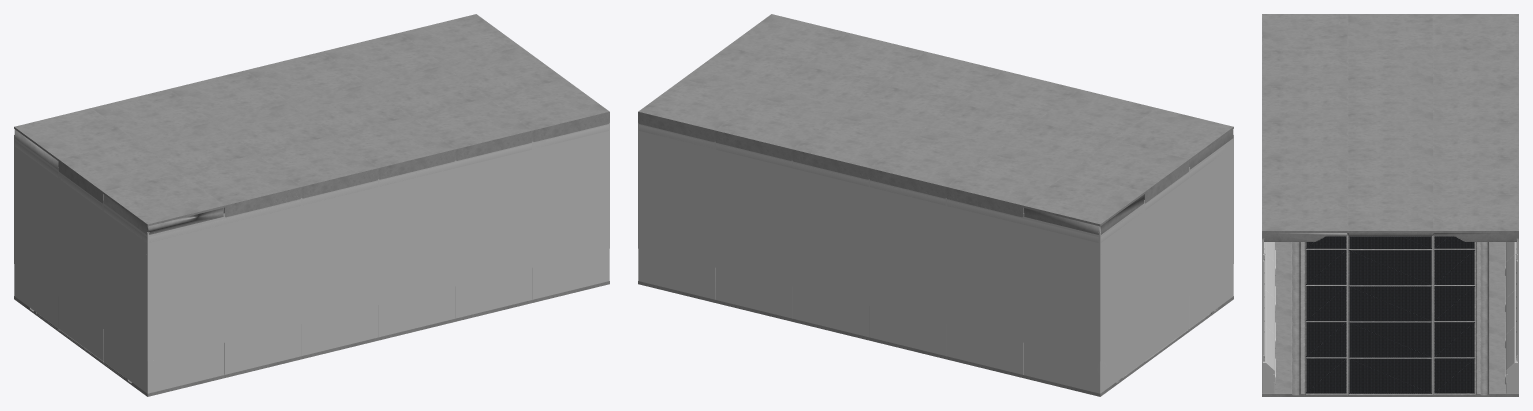
File: Pasillo1Opti.fbx
The picture shows the model from 3 angles, left to right: view 1: azimuth 30°, elevation 25°; view 2: azimuth 150°, elevation 25°; view 3: azimuth 270°, elevation 25°; orthographic projection. The views are drawn at different scales.
Parts seen in each view (by area): view 1: SM_Wall_AA__1_, SM_Ceiling_Center__1_, SM_Floor_Center; view 2: SM_Wall_AA__1_, SM_Ceiling_Center__1_, SM_Floor_Center; view 3: SM_Ceiling_Center__1_, SM_Floor_Center, SM_Wall_AA__1_.
Boxes of the visible parts, x1,y1,x2,y2 form: SM_Wall_AA__1_: (14, 123, 609, 393); SM_Ceiling_Center__1_: (14, 14, 609, 234); SM_Floor_Center: (14, 281, 609, 396); SM_Wall_AA__1_: (638, 123, 1233, 393); SM_Ceiling_Center__1_: (638, 14, 1233, 234); SM_Floor_Center: (638, 281, 1233, 396); SM_Ceiling_Center__1_: (1262, 14, 1518, 241); SM_Floor_Center: (1262, 235, 1518, 396); SM_Wall_AA__1_: (1262, 238, 1518, 393).
Bounding box in the file's own units: 120 × 42.8 × 60.
